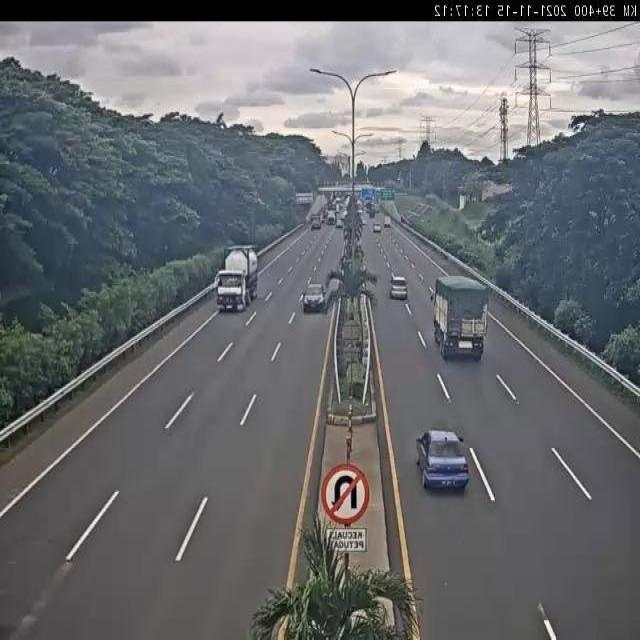Car: (414, 430, 472, 494), (302, 281, 327, 313), (390, 274, 409, 302)
Truck: (429, 276, 488, 364), (214, 242, 259, 313)
